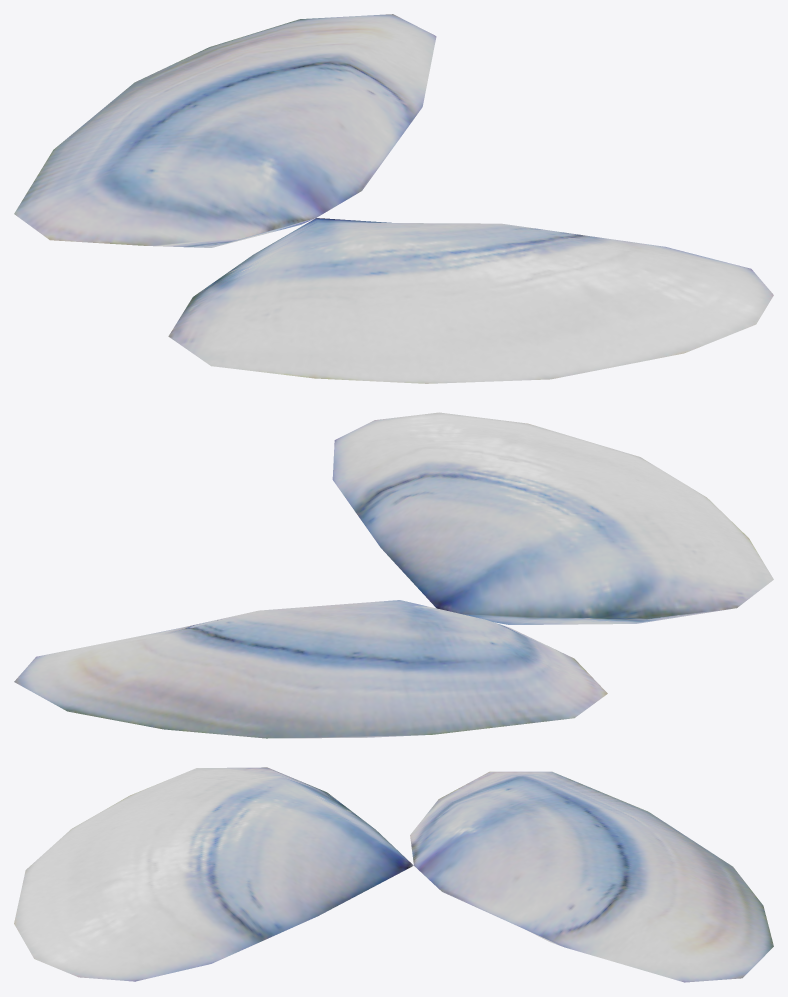
Rendered from SeaShell-10_LOD0_FattooCreater.glb.
The picture shows the model from 3 angles, top to bottom: view 1: azimuth 30°, elevation 25°; view 2: azimuth 150°, elevation 25°; view 3: azimuth 270°, elevation 25°; orthographic projection. The views are drawn at different scales.
Parts seen in each view (by area): view 1: SeaShell-10_high; view 2: SeaShell-10_high; view 3: SeaShell-10_high.
Boxes of the visible parts, x1,y1,x2,y2 form: SeaShell-10_high: [14, 14, 773, 383]; SeaShell-10_high: [14, 412, 773, 738]; SeaShell-10_high: [14, 767, 773, 982].
Size of the model in its own units: 0.016 by 0.00294 by 0.0239.
Materials: 1 (1 with a texture image).
